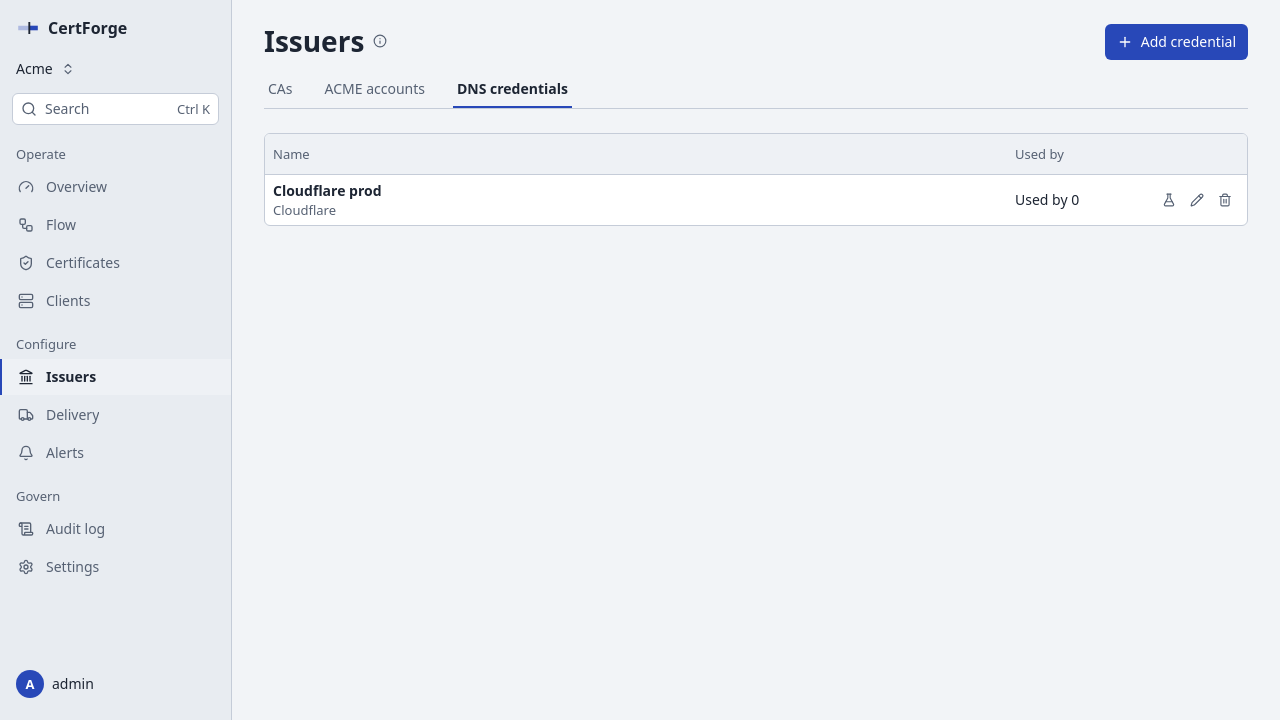
Test: shows a 409 detail inline when a delete is blocked by a stale usedBy
This screenshot has width=1280, height=720.
Click the button named "Delete Cloudflare prod" at (1225, 200), box x1=1211 y1=186 x2=1239 y2=214
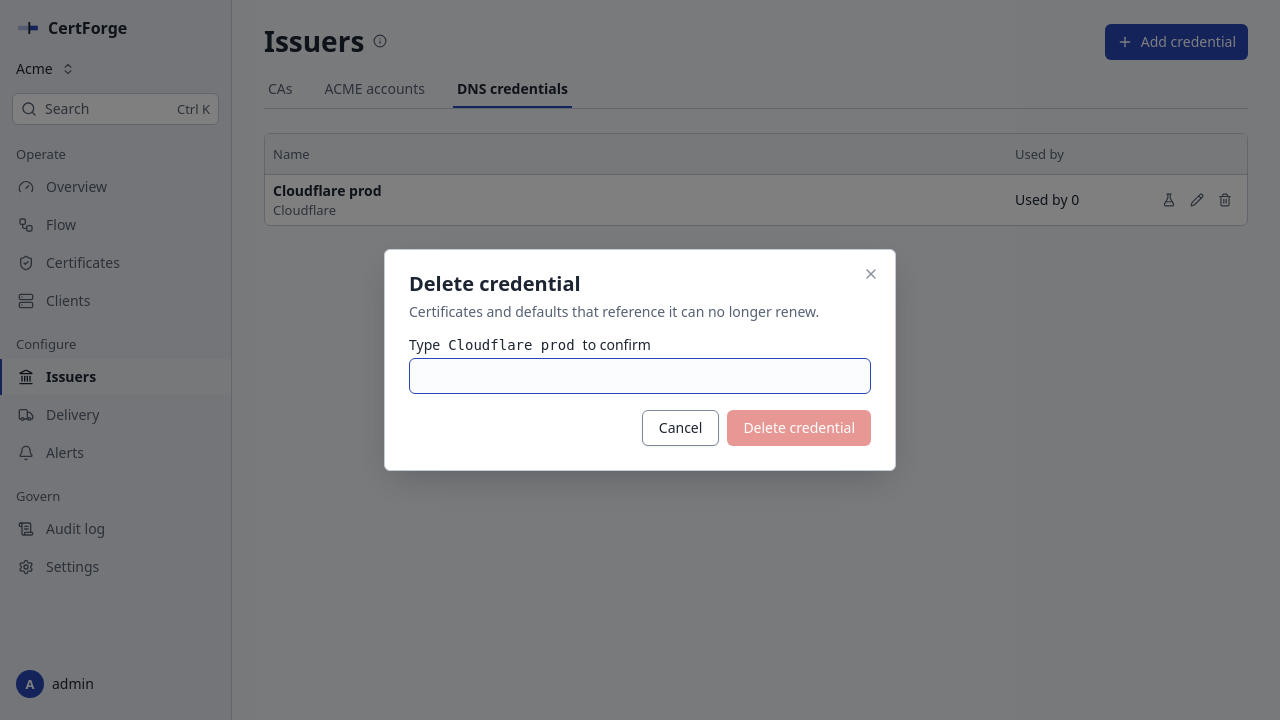
Type "Cloudflare prod" into the field at (640, 376), box x1=409 y1=358 x2=871 y2=394
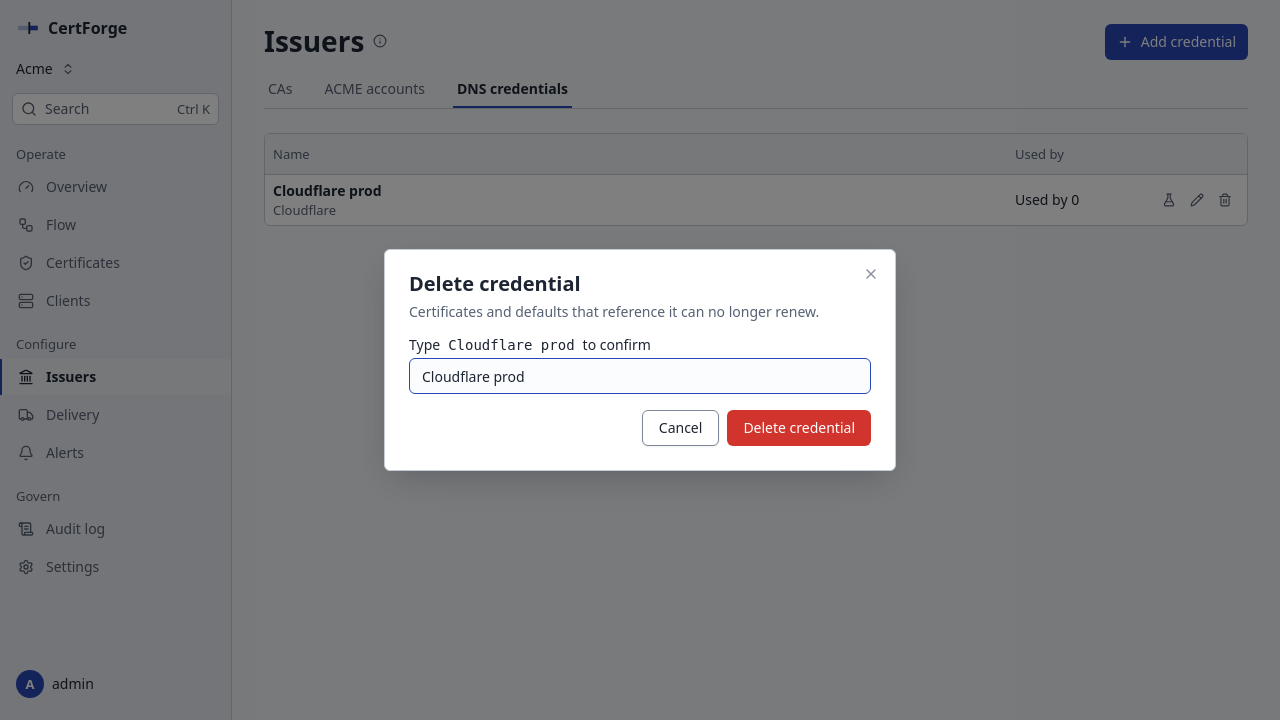
Click the button "Delete credential" at (799, 428), box x1=727 y1=410 x2=871 y2=446
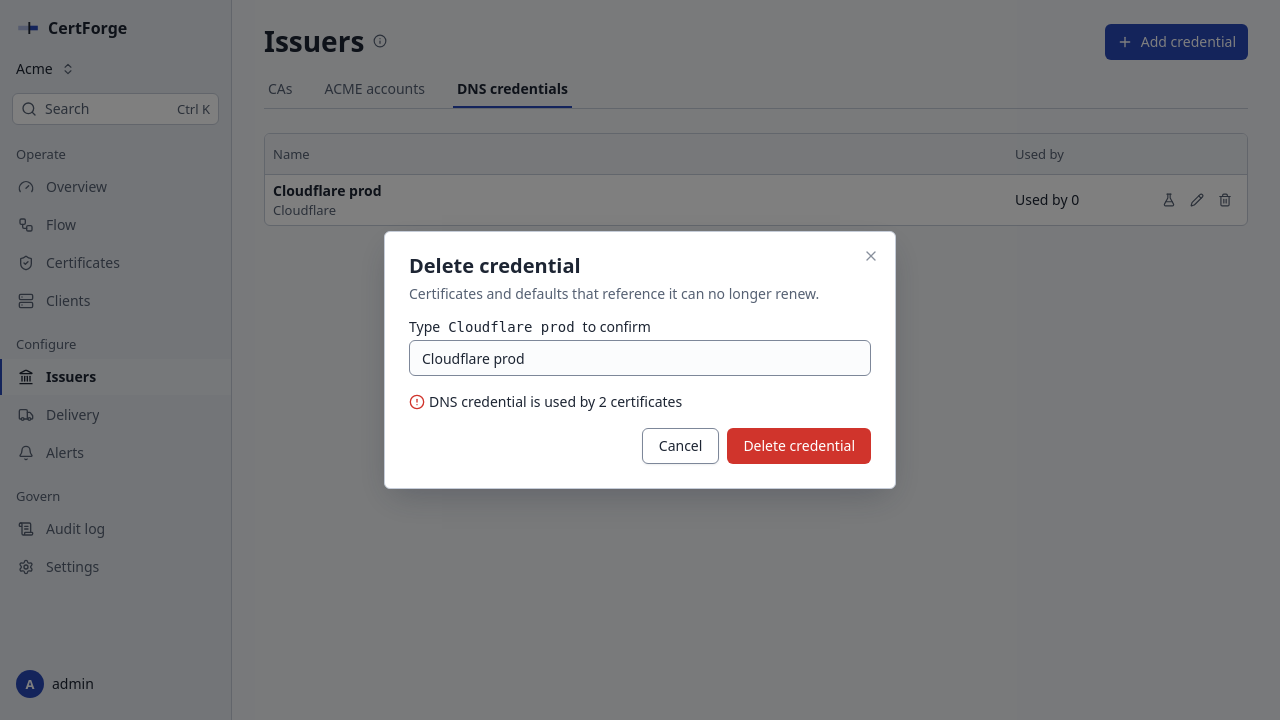
Check: the message reads "DNS credential is used by 2 certificates", box x1=429 y1=392 x2=682 y2=411
